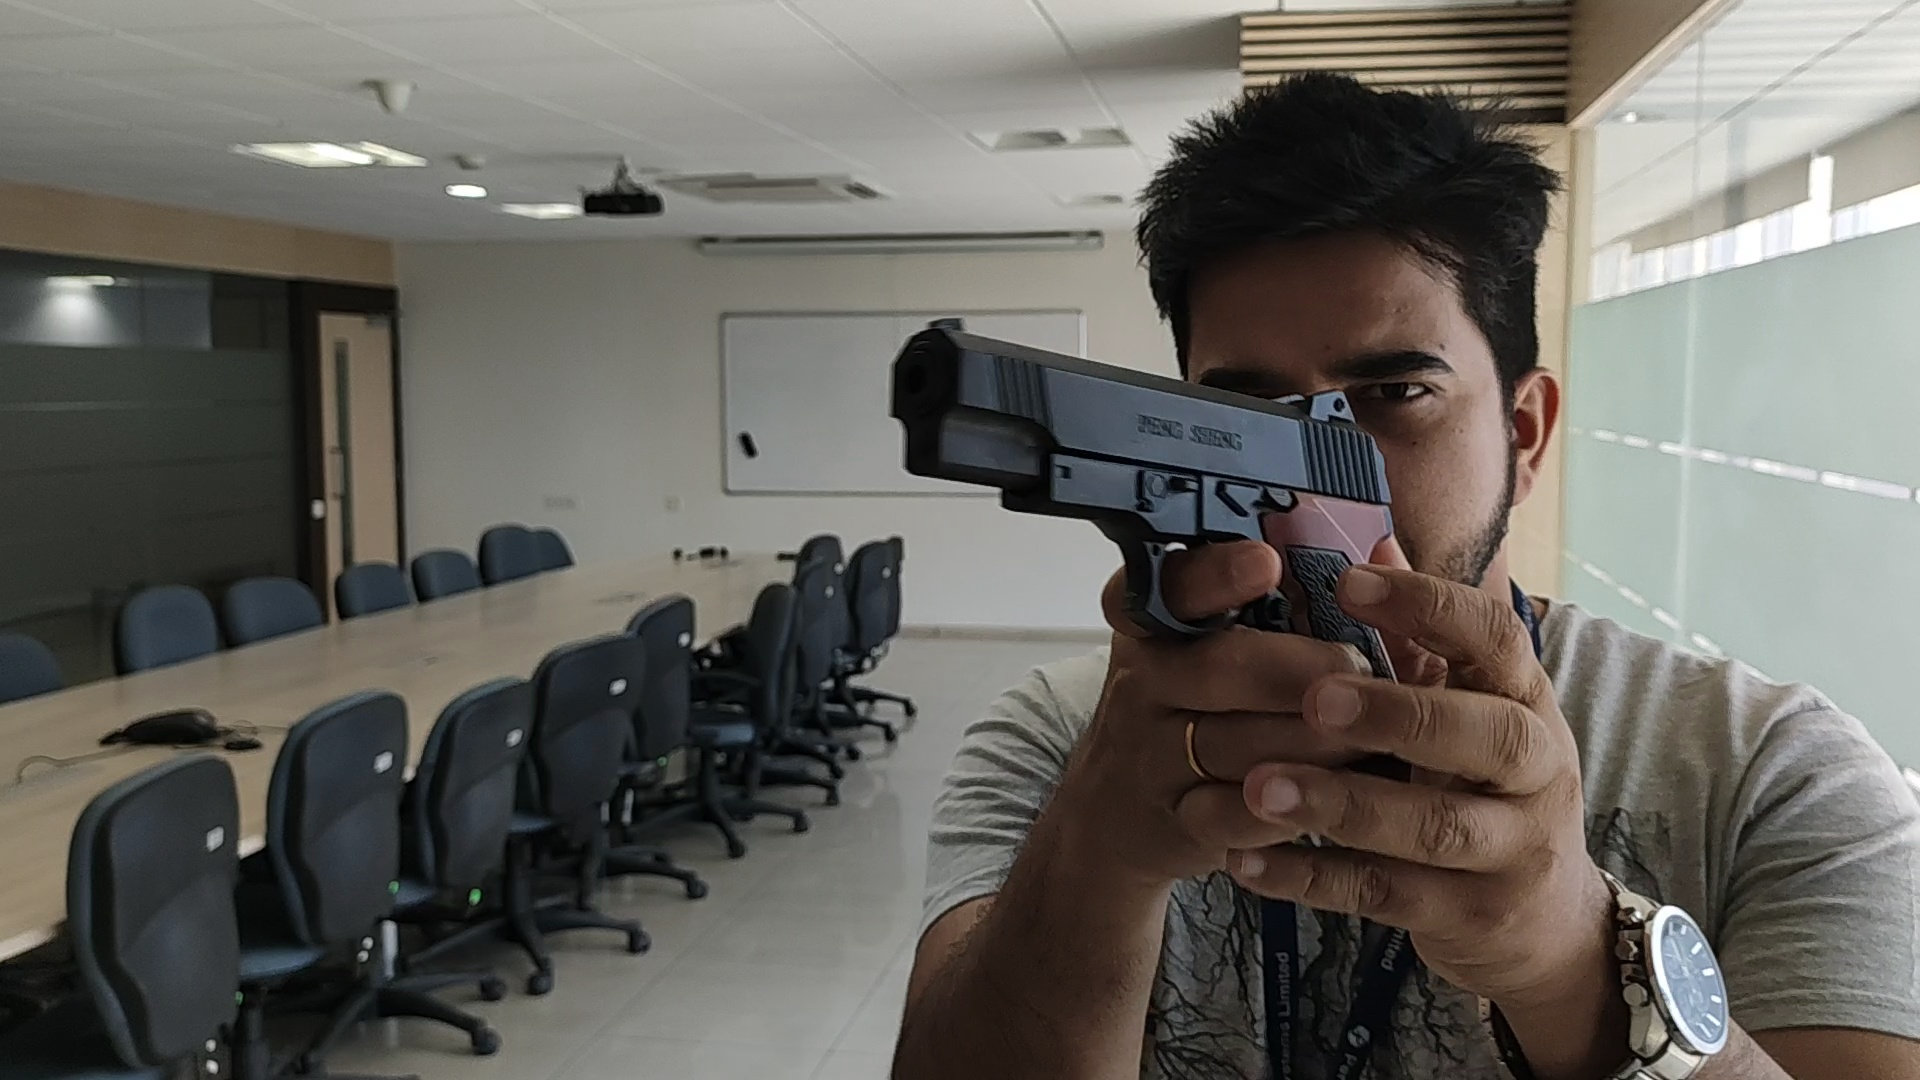gun: (891, 316, 1393, 546)
